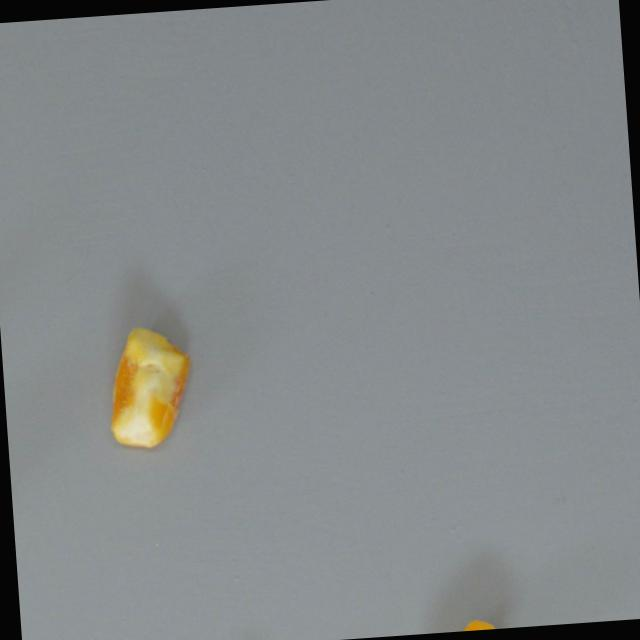pelicula: (100, 320, 198, 454), (412, 612, 520, 634)
